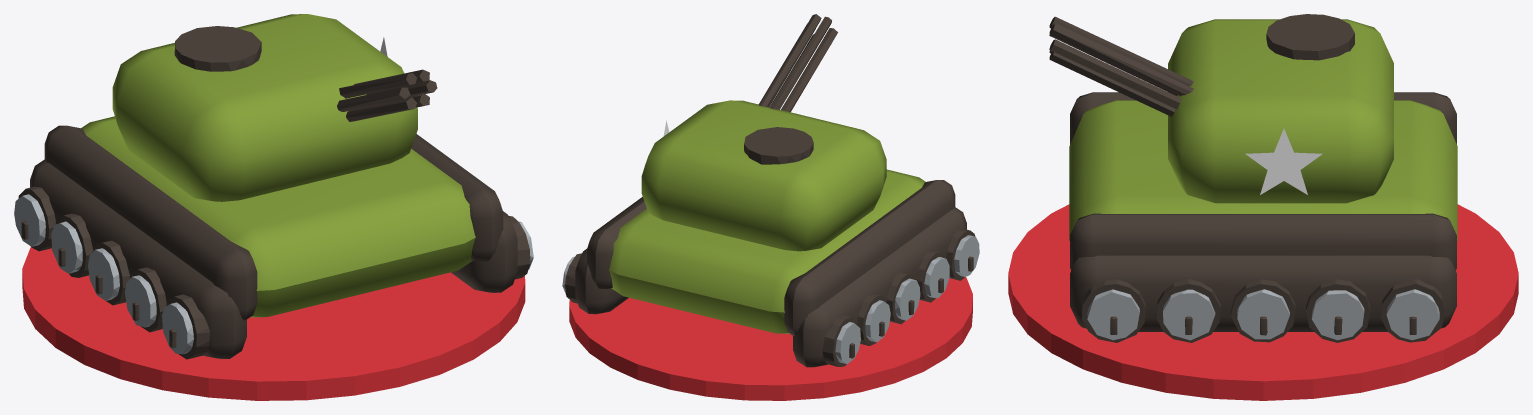
Rendered from usa_anti_aircraft_lod0.glb.
3 renders of one model, left to right at view 1: azimuth 30°, elevation 25°; view 2: azimuth 150°, elevation 25°; view 3: azimuth 270°, elevation 25°, orthographic. The views are drawn at different scales.
Visible parts, largest first — view 1: body_hull, base_pedestal; view 2: body_hull, base_pedestal; view 3: body_hull, base_pedestal.
Part boxes in pixels (x1,y1,x2,y2): body_hull: [14, 14, 533, 359]; base_pedestal: [22, 247, 525, 400]; body_hull: [562, 14, 979, 367]; base_pedestal: [569, 277, 972, 400]; body_hull: [1049, 14, 1457, 342]; base_pedestal: [1008, 204, 1518, 400].
Bounding box in the file's own units: 0.78 × 0.4935 × 0.78.
